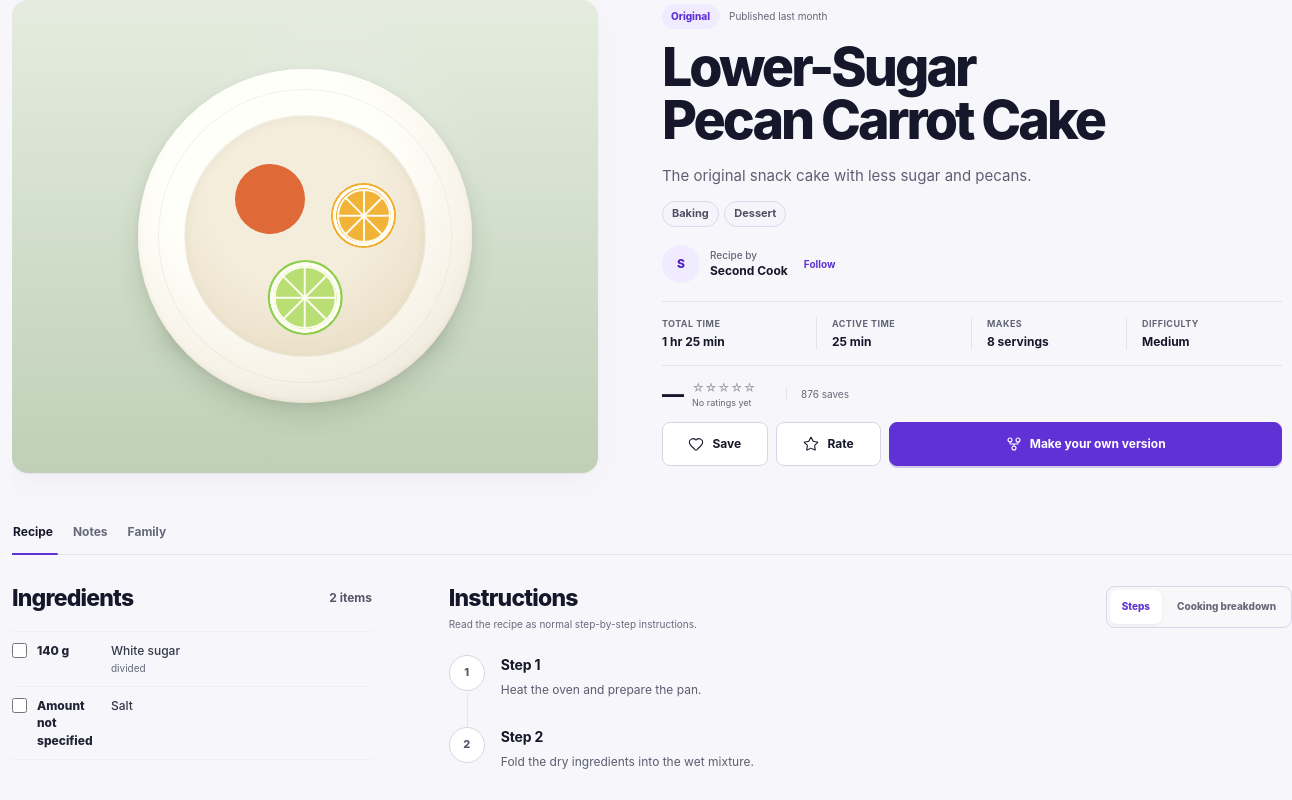
RecipeDetailView › renders honest empty aggregate and recipe-history states without exposing private controls
The width and height of the screenshot is (1292, 800).
Check: the element labelled "— ☆☆☆☆☆ No ratings yet" is shown, box [662,382,756,407]
Check: the text "Original" is shown, box [662,4,719,29]
Step 1. Click the tab "Family" → (147, 538), box [127,523,167,554]
(page scrolled)
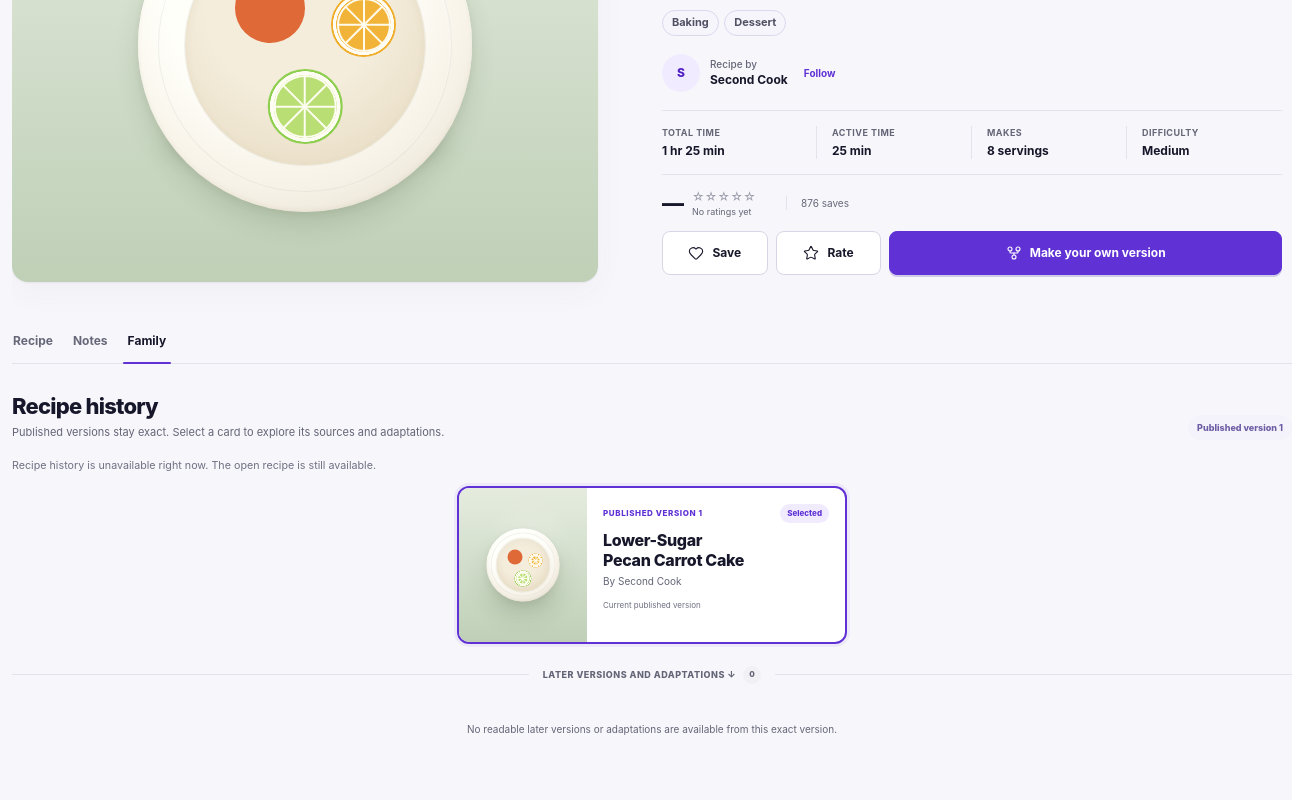
Check: the text "No readable later versions or adaptations are available" is shown, box [467,723,837,735]
